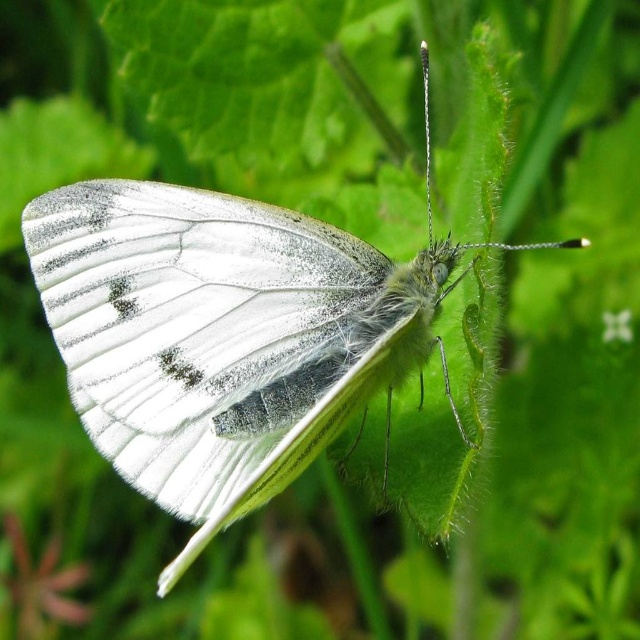Butterfly: (20, 40, 592, 599)
